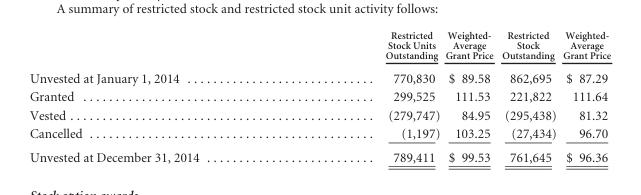table: (28, 29, 610, 164)
table column: (28, 29, 291, 164), (291, 29, 442, 164), (496, 29, 559, 164), (442, 29, 496, 164), (559, 29, 610, 164)
table column header: (28, 29, 610, 65)
table row: (28, 29, 610, 65), (28, 65, 610, 87), (28, 124, 610, 145), (28, 105, 610, 124), (28, 145, 610, 164), (28, 87, 610, 105)
